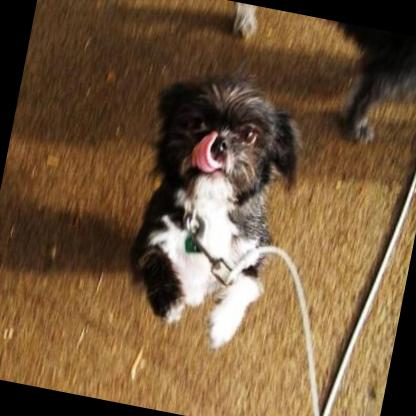affenpinscher: (99, 60, 310, 358)
